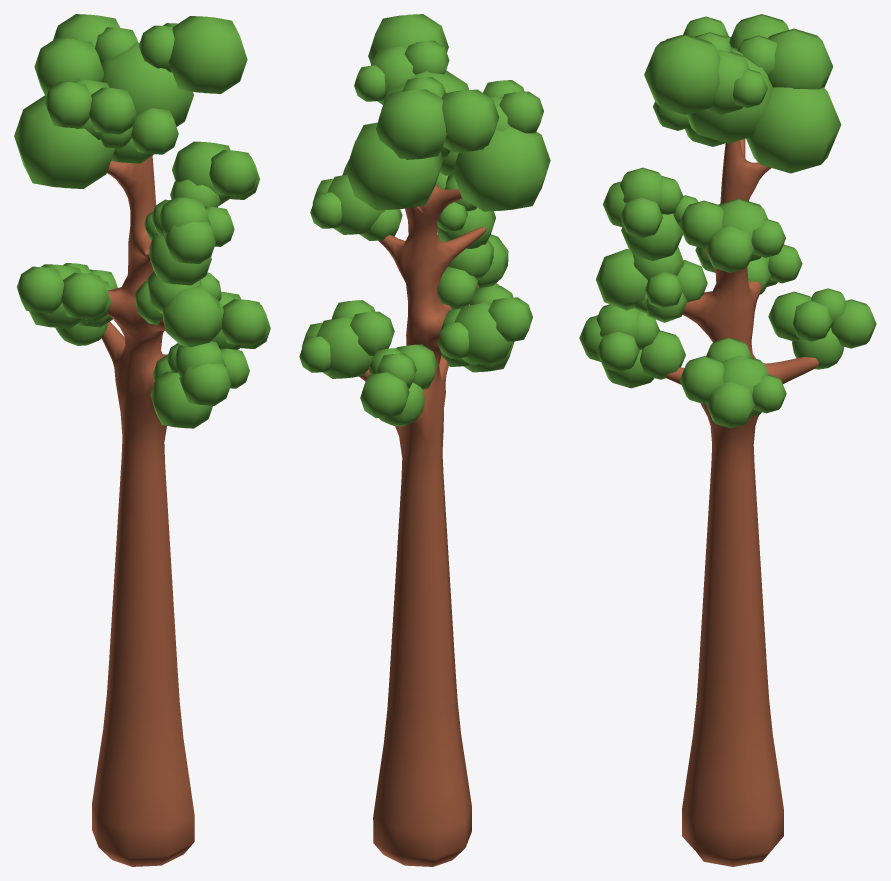
The model's file is Tree2.fbx.
The picture shows the model from 3 angles, left to right: view 1: azimuth 30°, elevation 25°; view 2: azimuth 150°, elevation 25°; view 3: azimuth 270°, elevation 25°; orthographic projection. The views are drawn at different scales.
Visible parts, largest first — view 1: trees; view 2: trees; view 3: trees.
Part boxes in pixels (x1,y1,x2,y2): trees: (14, 14, 270, 866); trees: (299, 14, 550, 866); trees: (579, 14, 876, 866).
Size of the model in its own units: 517 by 1690 by 543.
